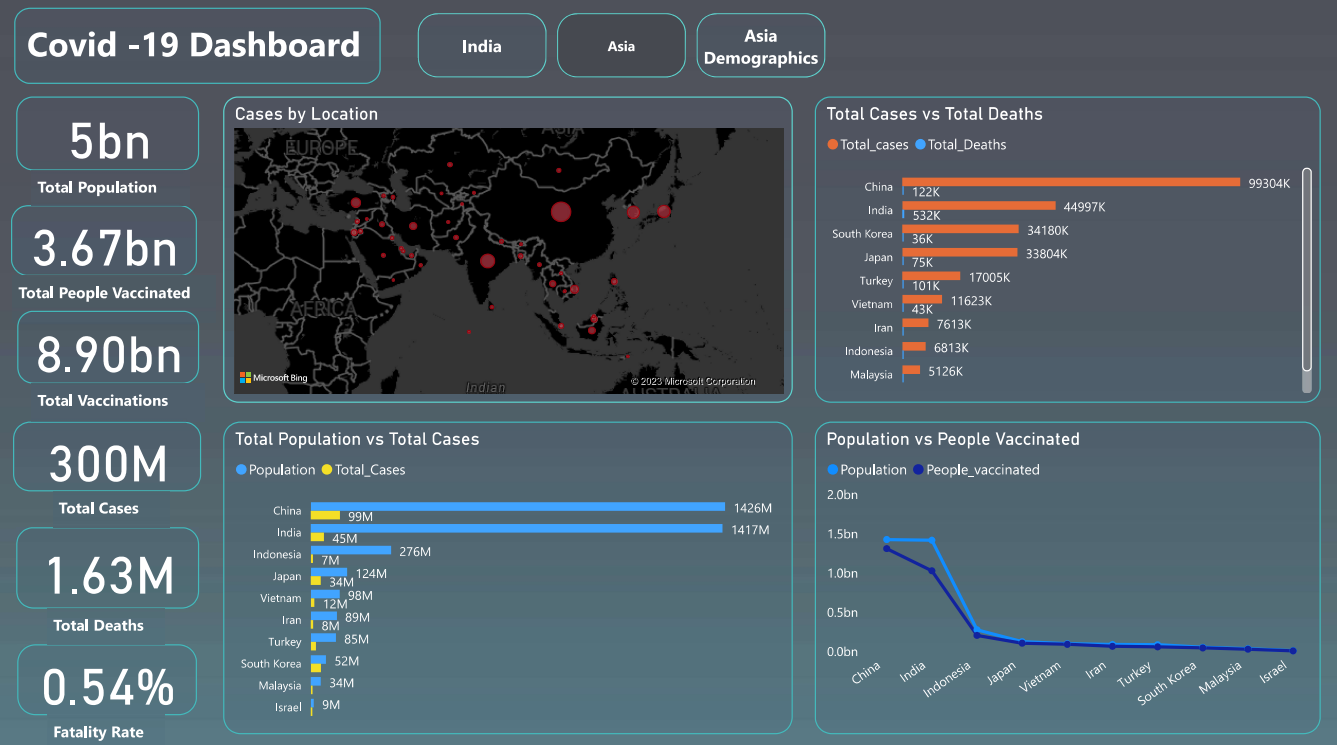

The page's visual inventory and layout, read from the dashboard file:
{"tool":"powerbi","page":{"name":"Asia","canvas":[1280,720],"ordinal":1},"visuals":[{"type":"clusteredBarChart","title":"Total Cases vs Total Deaths","fields":{"Category":["owid_covid_latest.location"],"Y":["Sum(owid_covid_latest.total_cases)","Sum(owid_covid_latest.total_deaths)"]},"box":[776.8,100.2,479,289.6],"z":0},{"type":"clusteredBarChart","title":"Total Population vs Total Cases","fields":{"Category":["owid_covid_latest.location"],"Y":["Sum(owid_covid_latest.population)","Sum(owid_covid_latest.total_cases)"]},"box":[216.9,407.6,539.4,296.5],"z":1000},{"type":"card","fields":{"Values":["weekly_cases.TotalCasesAsia"]},"box":[17.8,407.6,178.4,65.9],"z":2000},{"type":"card","fields":{"Values":["weekly_deaths.TotalAsiaDeaths"]},"box":[20.6,507.8,172.9,76.9],"z":3000},{"type":"card","fields":{"Values":["weekly_cases.FatalityRateAsia"]},"box":[22,619,170.2,67.3],"z":4000},{"type":"card","fields":{"Values":["Sum(owid_covid_latest.people_vaccinated)"]},"box":[16.5,203.1,175.7,67.3],"z":5000},{"type":"lineChart","title":"Population vs People Vaccinated","fields":{"Y":["Sum(owid_covid_latest.population)","Sum(owid_covid_latest.people_vaccinated)"],"Category":["owid_covid_latest.location"]},"box":[776.8,407.6,479,296.5],"z":6000},{"type":"textbox","box":[50.8,686.3,109.8,34.3],"z":7000},{"type":"textbox","box":[56.3,473.5,109.8,34.3],"z":8000},{"type":"textbox","box":[50.8,584.7,109.8,34.3],"z":9000},{"type":"textbox","box":[17.8,270.4,192.2,43.9],"z":10000},{"type":"card","fields":{"Values":["Sum(owid_covid_latest.population)"]},"box":[20.6,100.2,172.9,70],"z":11000},{"type":"card","fields":{"Values":["Sum(owid_covid_latest.total_vaccinations)"]},"box":[22,303.3,171.6,68.6],"z":12000},{"type":"textbox","box":[35.7,372,163.3,35.7],"z":13000},{"type":"textbox","box":[35.7,170.2,149.6,32.9],"z":14000},{"type":"textbox","box":[19.2,16.5,347.2,71.4],"z":15000},{"type":"map","title":"Cases by Location","fields":{"Category":["owid_covid_latest.location"],"Size":["Sum(owid_covid_latest.total_cases)"]},"box":[216.9,100.2,539.4,289.6],"z":18001},{"type":"pageNavigator","box":[400.8,20.6,388.4,61.8],"z":18002}]}

Visuals, with their boxes in screenshot pixels (x1, y1, x2, y2), scaled from the page's 1280x720 canvas onto the 1337x745 screenshot:
"Total Cases vs Total Deaths" clusteredBarChart: box=[811, 104, 1312, 403]
"Total Population vs Total Cases" clusteredBarChart: box=[227, 422, 790, 729]
card - weekly_cases.TotalCasesAsia: box=[19, 422, 205, 490]
card - weekly_deaths.TotalAsiaDeaths: box=[22, 525, 202, 605]
card - weekly_cases.FatalityRateAsia: box=[23, 640, 201, 710]
card - Sum(owid_covid_latest.people_vaccinated): box=[17, 210, 201, 280]
"Population vs People Vaccinated" lineChart: box=[811, 422, 1312, 729]
textbox: box=[53, 710, 168, 744]
textbox: box=[59, 490, 173, 525]
textbox: box=[53, 605, 168, 640]
textbox: box=[19, 280, 219, 325]
card - Sum(owid_covid_latest.population): box=[22, 104, 202, 176]
card - Sum(owid_covid_latest.total_vaccinations): box=[23, 314, 202, 385]
textbox: box=[37, 385, 208, 422]
textbox: box=[37, 176, 194, 210]
textbox: box=[20, 17, 383, 91]
"Cases by Location" map: box=[227, 104, 790, 403]
pageNavigator: box=[419, 21, 824, 85]
